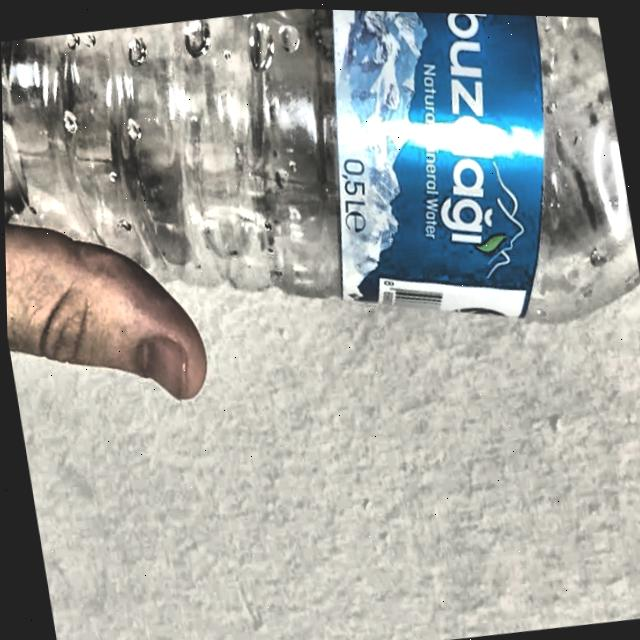plastic: (1, 7, 640, 318)
